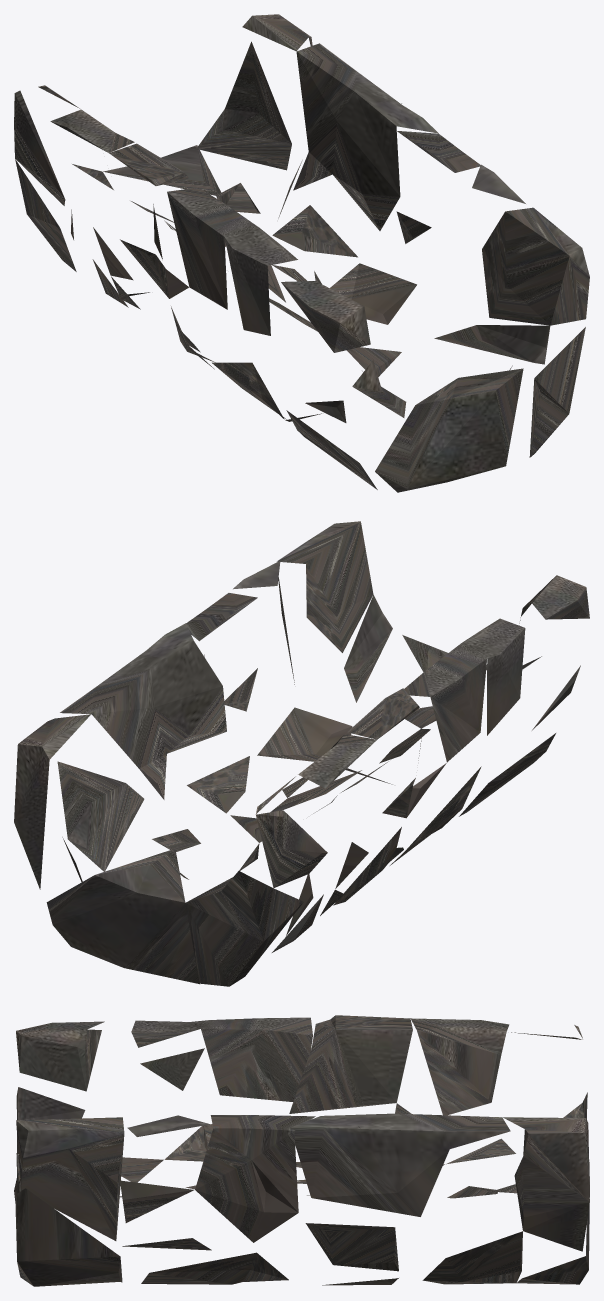
Rendered from prp_millrace_a_LOD2.glb.
The picture shows the model from 3 angles, top to bottom: view 1: azimuth 30°, elevation 25°; view 2: azimuth 150°, elevation 25°; view 3: azimuth 270°, elevation 25°; orthographic projection. The views are drawn at different scales.
Visible parts, largest first — view 1: geometry_0; view 2: geometry_0; view 3: geometry_0.
Boxes of the visible parts, bbox=[...] form: geometry_0: bbox=[14, 14, 589, 492]; geometry_0: bbox=[14, 521, 589, 986]; geometry_0: bbox=[14, 1015, 589, 1286].
Size of the model in its own units: 1.94 by 1.43 by 3.99.
1 material, 1 textured.
